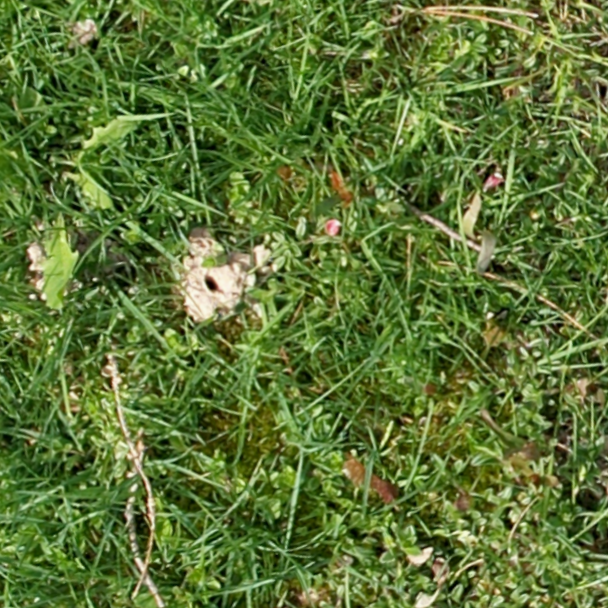nest: (172, 234, 262, 320)
